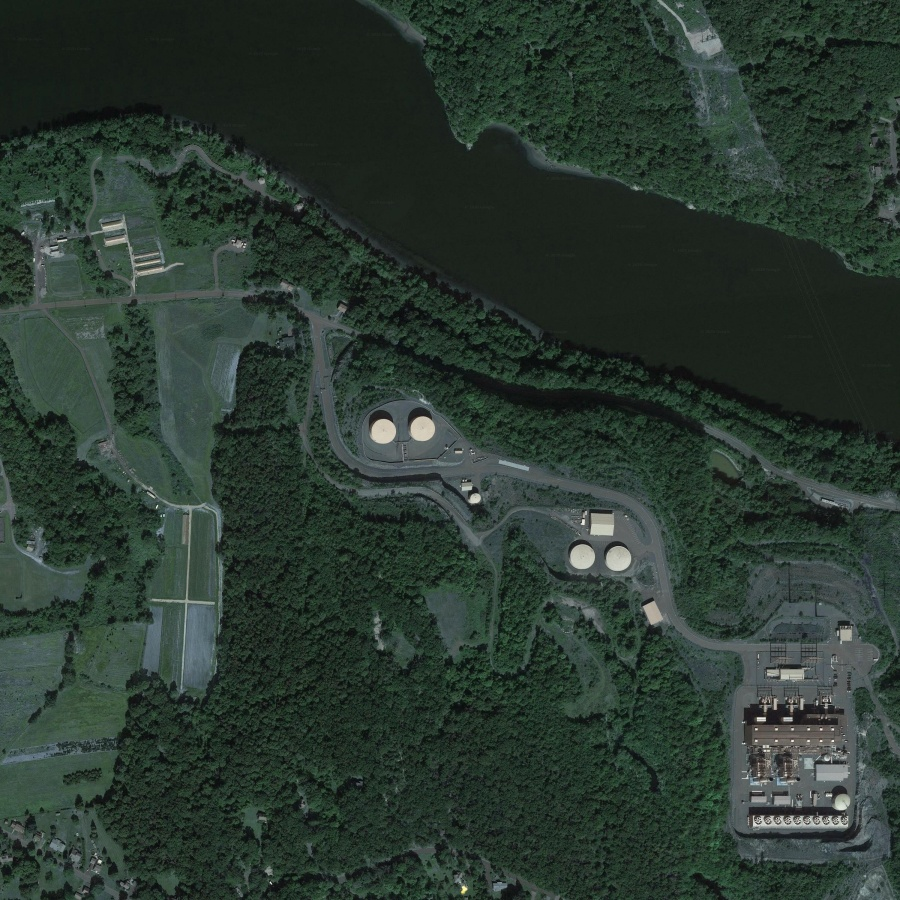PowerPlant: (735, 605, 881, 845)
